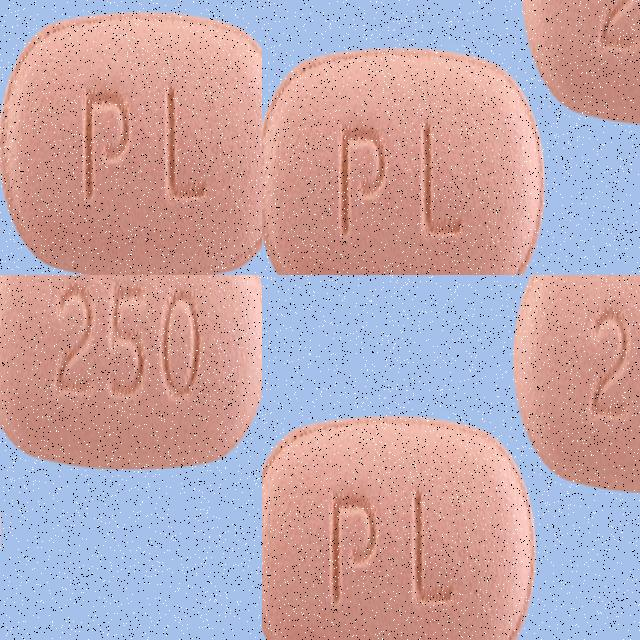Famvir -750mg: (262, 52, 550, 275)
Levoxacin -500mg: (262, 418, 536, 640), (515, 275, 640, 494)
Pocef Cap: (96, 147, 262, 275)
Sebivo Tab: (0, 275, 262, 455)
